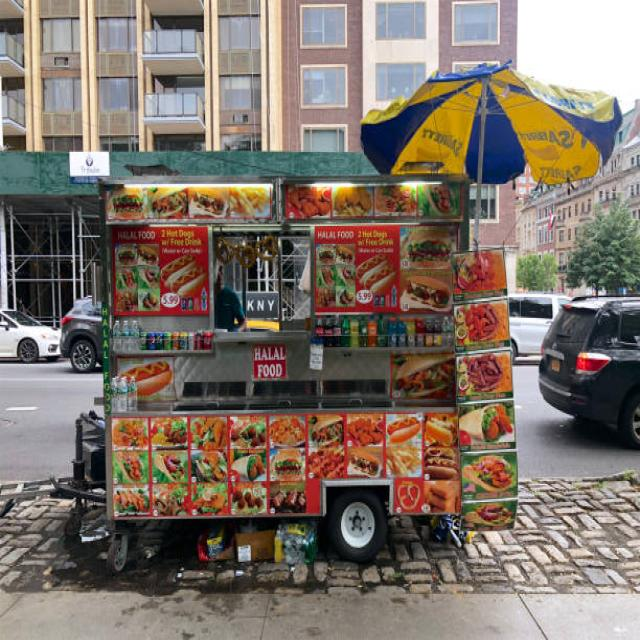Emperan: (59, 55, 634, 612)
